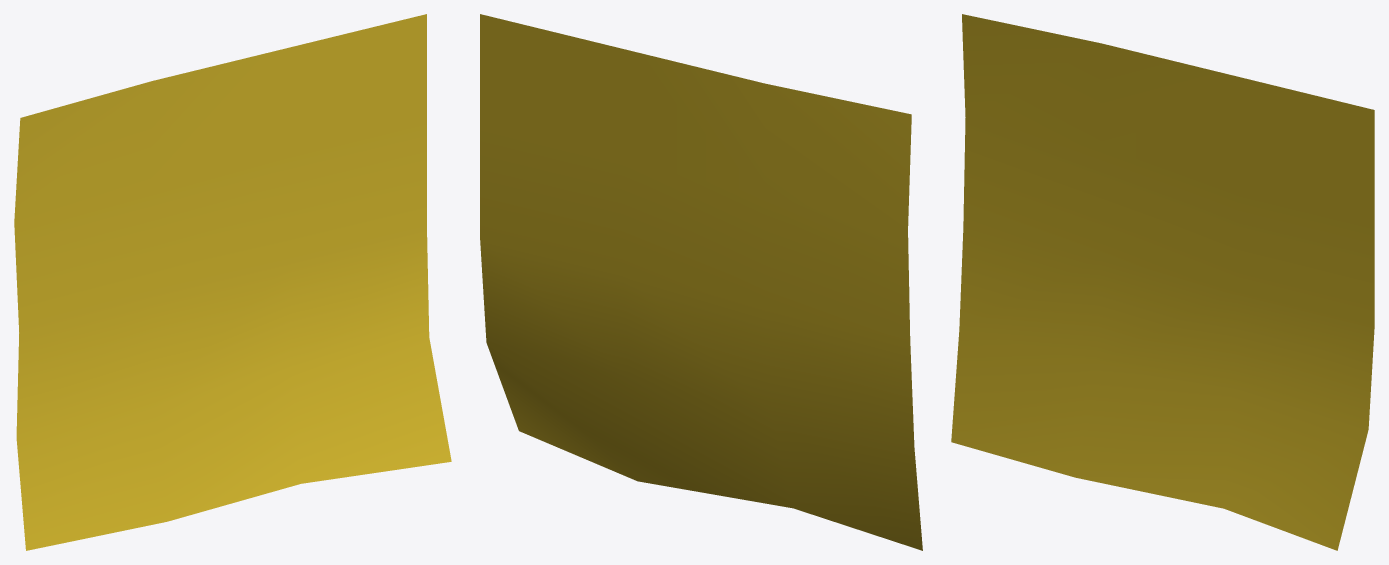
Rendered from StickyNote.fbx.
The picture shows the model from 3 angles, left to right: view 1: azimuth 30°, elevation 25°; view 2: azimuth 150°, elevation 25°; view 3: azimuth 330°, elevation 25°; orthographic projection. The views are drawn at different scales.
Visible parts, largest first — view 1: Plane; view 2: Plane; view 3: Plane.
Boxes of the visible parts, bbox=[...] form: Plane: bbox=[14, 14, 451, 550]; Plane: bbox=[480, 14, 922, 550]; Plane: bbox=[951, 14, 1374, 550].
Bounding box in the file's own units: 62.62 × 61.53 × 8.14.
